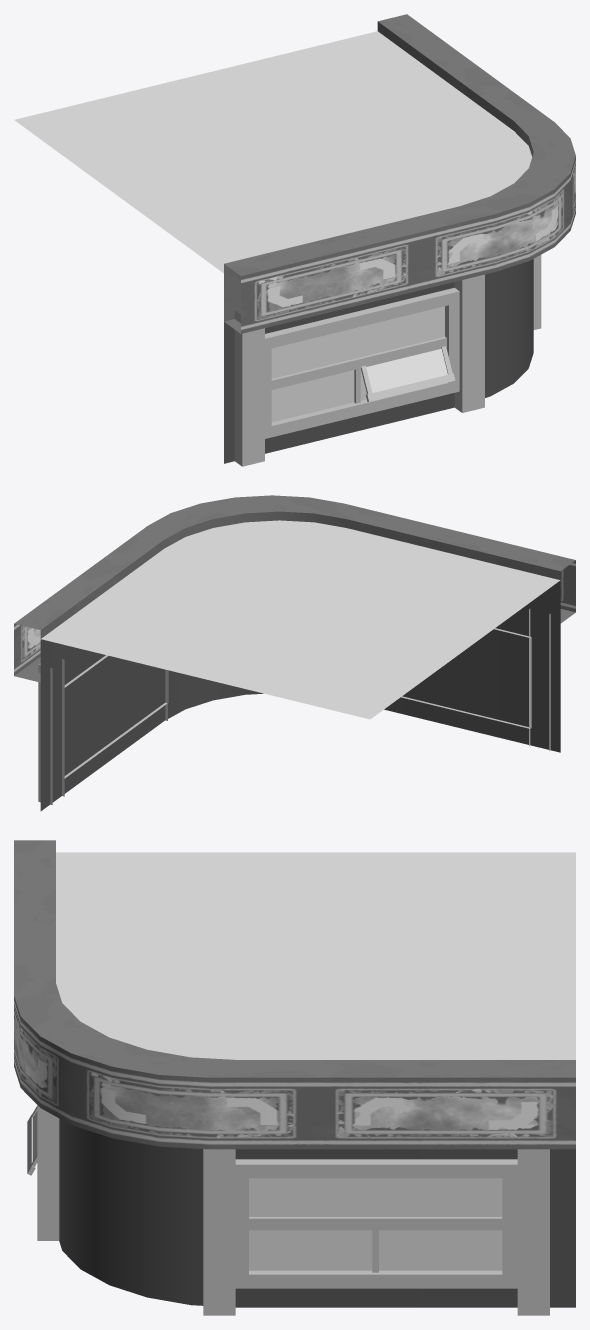
Rendered from FloorCornerConvexRounded_A.fbx.
3 renders of one model, top to bottom at view 1: azimuth 30°, elevation 25°; view 2: azimuth 150°, elevation 25°; view 3: azimuth 270°, elevation 25°, orthographic. The views are drawn at different scales.
Parts seen in each view (by area): view 1: FloorCornerConvexRounded_A; view 2: FloorCornerConvexRounded_A; view 3: FloorCornerConvexRounded_A.
Boxes of the visible parts, bbox=[...] form: FloorCornerConvexRounded_A: bbox=[14, 14, 575, 466]; FloorCornerConvexRounded_A: bbox=[14, 495, 575, 811]; FloorCornerConvexRounded_A: bbox=[14, 840, 575, 1315].
Bounding box in the file's own units: 10.81 × 5.26 × 10.81.
